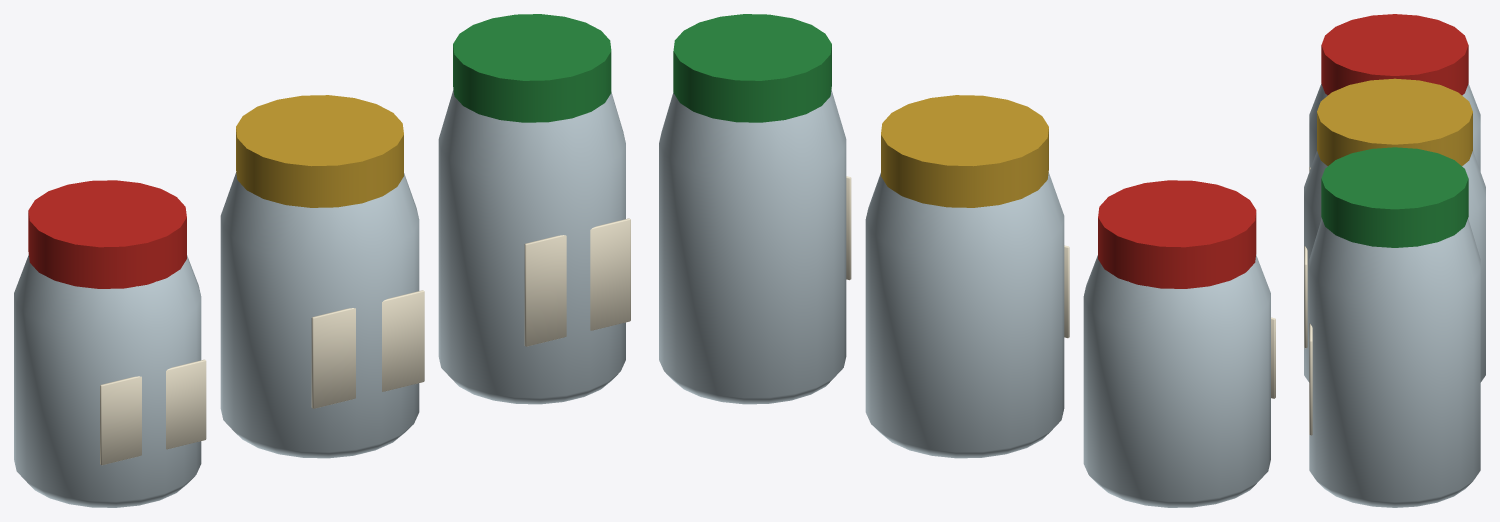
Rendered from deli_jam_jars_trio.glb.
3 views of the same model, side by side, from view 1: azimuth 30°, elevation 25°; view 2: azimuth 150°, elevation 25°; view 3: azimuth 270°, elevation 25° (orthographic). The views are drawn at different scales.
Visible parts, largest first — view 1: deli_jam_jars_trio; view 2: deli_jam_jars_trio; view 3: deli_jam_jars_trio.
Part boxes in pixels (bbox=[...]): deli_jam_jars_trio: bbox=[14, 14, 630, 507]; deli_jam_jars_trio: bbox=[659, 14, 1275, 507]; deli_jam_jars_trio: bbox=[1304, 14, 1485, 507].
Bounding box in the file's own units: 0.235 × 0.123 × 0.0683.
